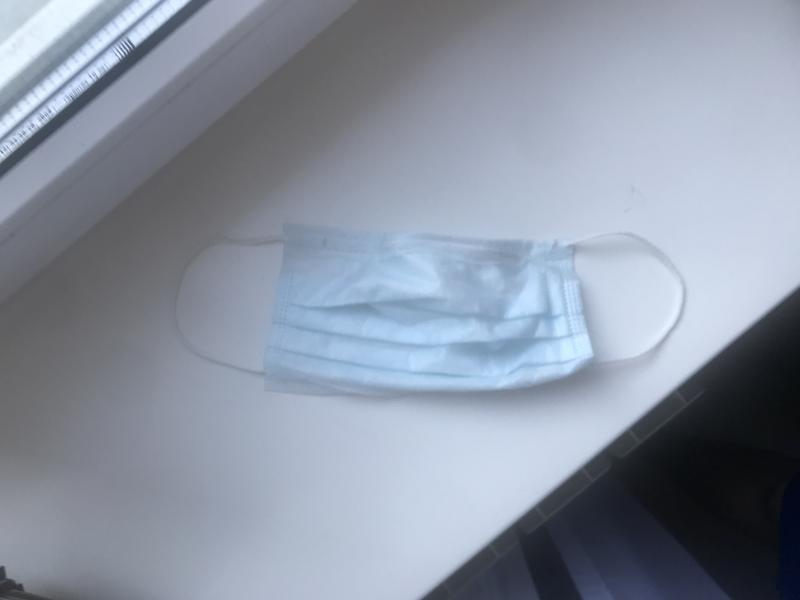medical_mask: (166, 222, 683, 396)
